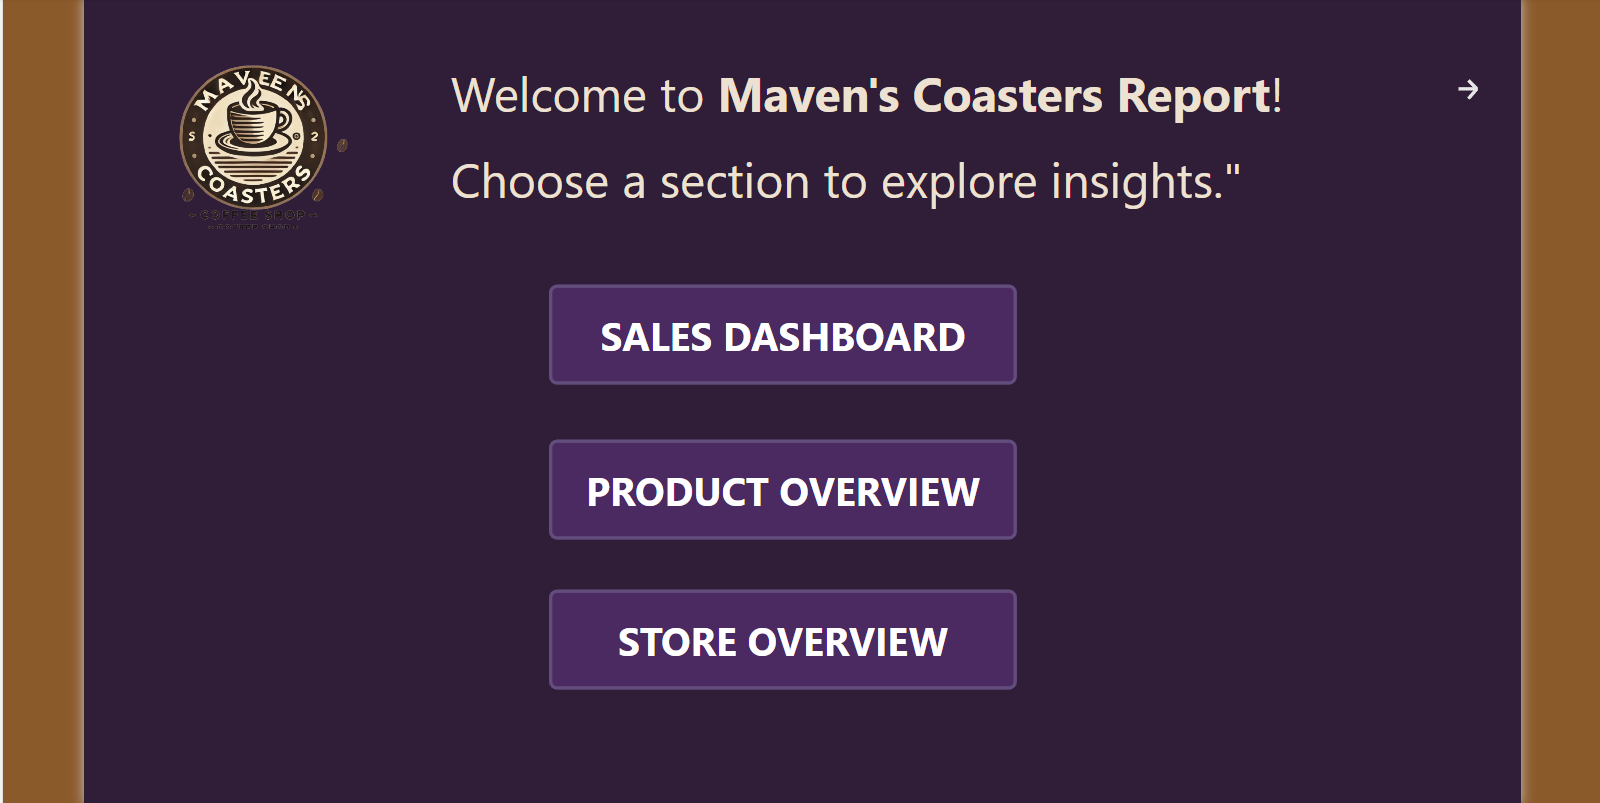

The page's visual inventory and layout, read from the dashboard file:
{"tool":"powerbi","page":{"name":"Navigation","canvas":[1280,720],"ordinal":0},"visuals":[{"type":"image","box":[74.5,50.8,166,160.3],"z":15000},{"type":"actionButton","box":[1218.9,69,36.7,26.7],"z":26000},{"type":"shape","box":[414.4,256.3,416.7,89.2],"z":26001},{"type":"shape","box":[414.4,394.1,416.7,89.2],"z":26002},{"type":"shape","box":[414.4,527.3,416.7,89.2],"z":26003},{"type":"textbox","box":[321.8,50.8,763.3,149],"z":26004}]}

Visuals, with their boxes on the page's 1280x720 design canvas (x1, y1, x2, y2). These are canvas units, not pixel positions in the 1600x803 screenshot, which may show the page scaled, cropped or inside an application window:
image: 74 51 240 211
actionButton: 1219 69 1256 96
shape: 414 256 831 346
shape: 414 394 831 483
shape: 414 527 831 616
textbox: 322 51 1085 200
